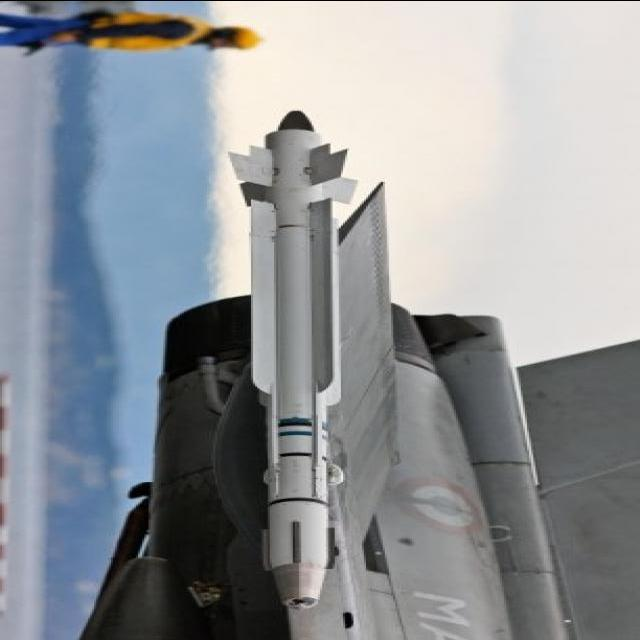missile: (216, 107, 356, 614)
